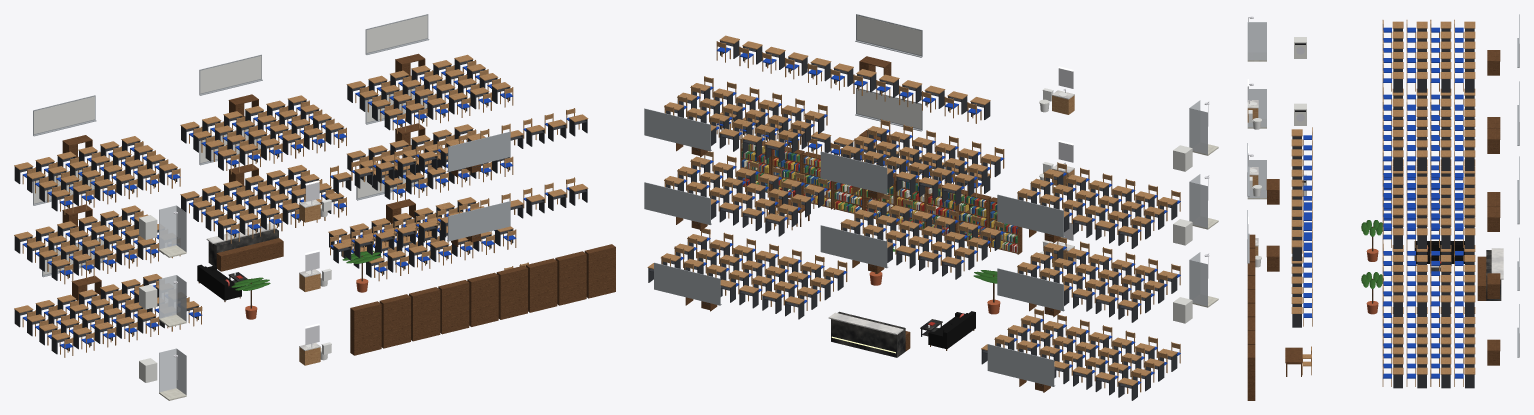
The model's file is i_school_primary.gltf.
The picture shows the model from 3 angles, left to right: view 1: azimuth 30°, elevation 25°; view 2: azimuth 150°, elevation 25°; view 3: azimuth 270°, elevation 25°; orthographic projection. The views are drawn at different scales.
Parts seen in each view (by area): view 1: I_school_primary; view 2: I_school_primary; view 3: I_school_primary.
Boxes of the visible parts, x1=… form: I_school_primary: x1=14, y1=14, x2=615, y2=400; I_school_primary: x1=644, y1=14, x2=1218, y2=400; I_school_primary: x1=1247, y1=14, x2=1519, y2=400.
Bounding box in the file's own units: 24.77 × 9.1 × 12.54.
26 materials, 8 textured.
